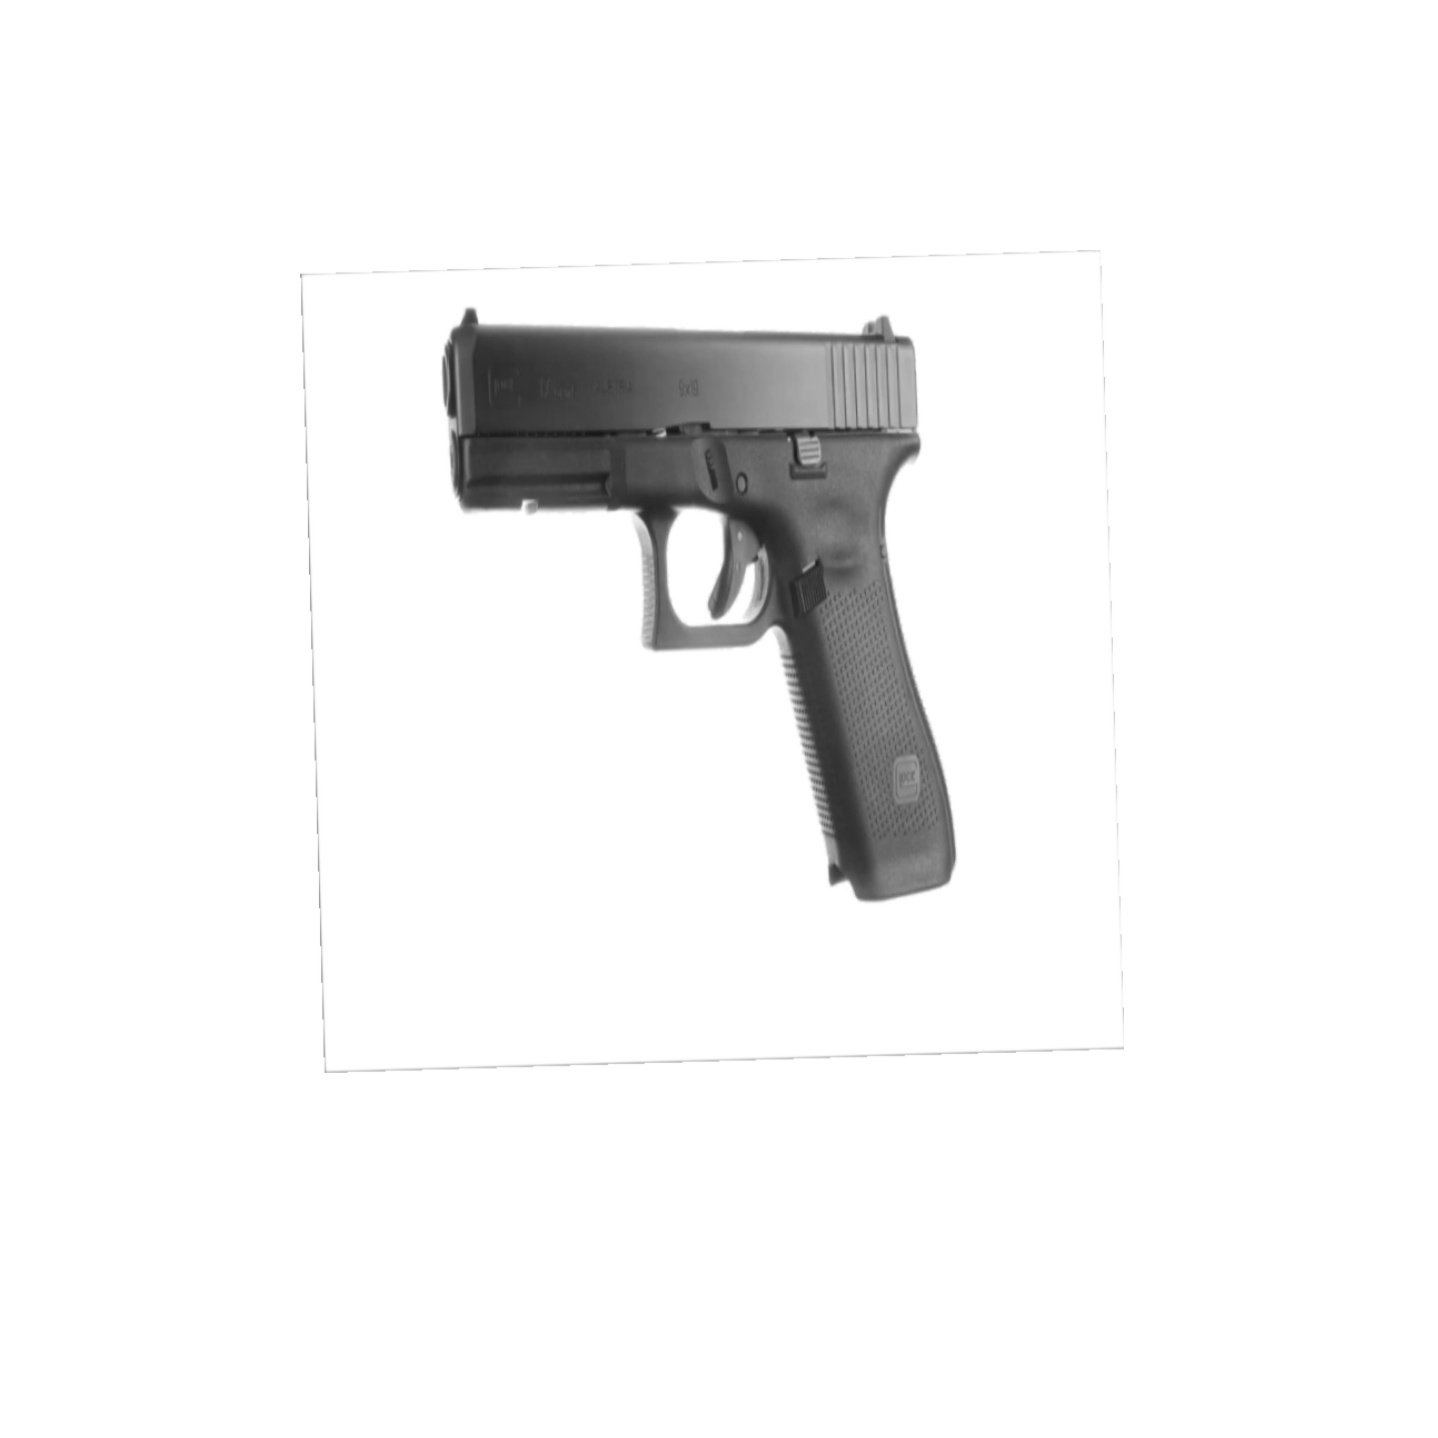gun: (411, 302, 1021, 923)
